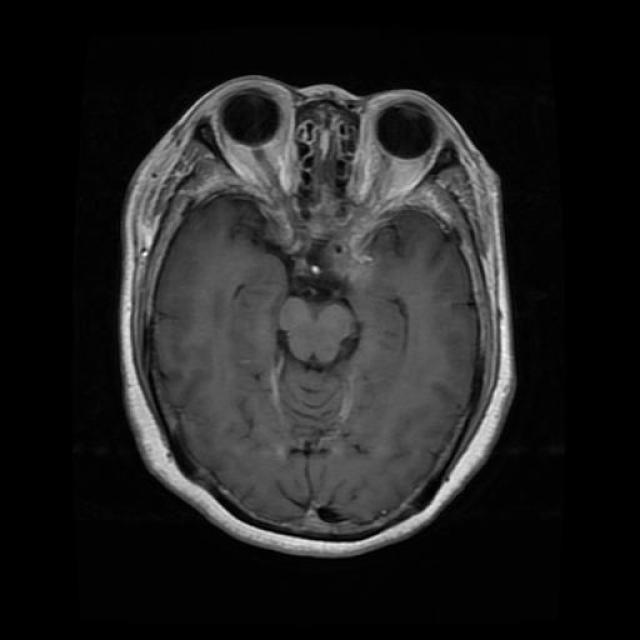meningioma: (349, 261, 374, 288)
